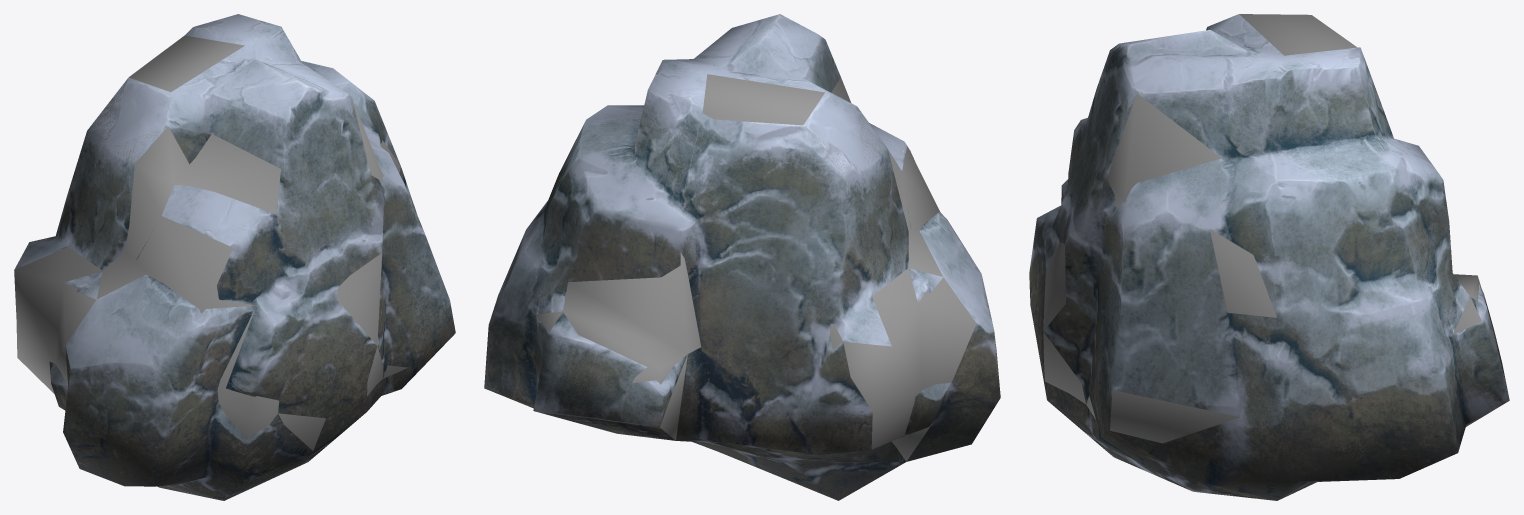
Rendered from Scene_Rock_XueShanShi_1.FBX.
The picture shows the model from 3 angles, left to right: view 1: azimuth 30°, elevation 25°; view 2: azimuth 150°, elevation 25°; view 3: azimuth 270°, elevation 25°; orthographic projection. The views are drawn at different scales.
Parts seen in each view (by area): view 1: Scene_Rock_XueShanShi_1, Scene_Rock_XueShanShi_1_Xzm; view 2: Scene_Rock_XueShanShi_1, Scene_Rock_XueShanShi_1_Xzm; view 3: Scene_Rock_XueShanShi_1, Scene_Rock_XueShanShi_1_Xzm.
Boxes of the visible parts, x1,y1,x2,y2 form: Scene_Rock_XueShanShi_1: (14,14,455,500); Scene_Rock_XueShanShi_1_Xzm: (14,35,407,450); Scene_Rock_XueShanShi_1: (484,14,1000,500); Scene_Rock_XueShanShi_1_Xzm: (535,74,976,461); Scene_Rock_XueShanShi_1: (1029,14,1509,500); Scene_Rock_XueShanShi_1_Xzm: (1043,14,1506,443).
Bounding box in the file's own units: 739 × 715 × 661.
2 materials, 1 textured.
